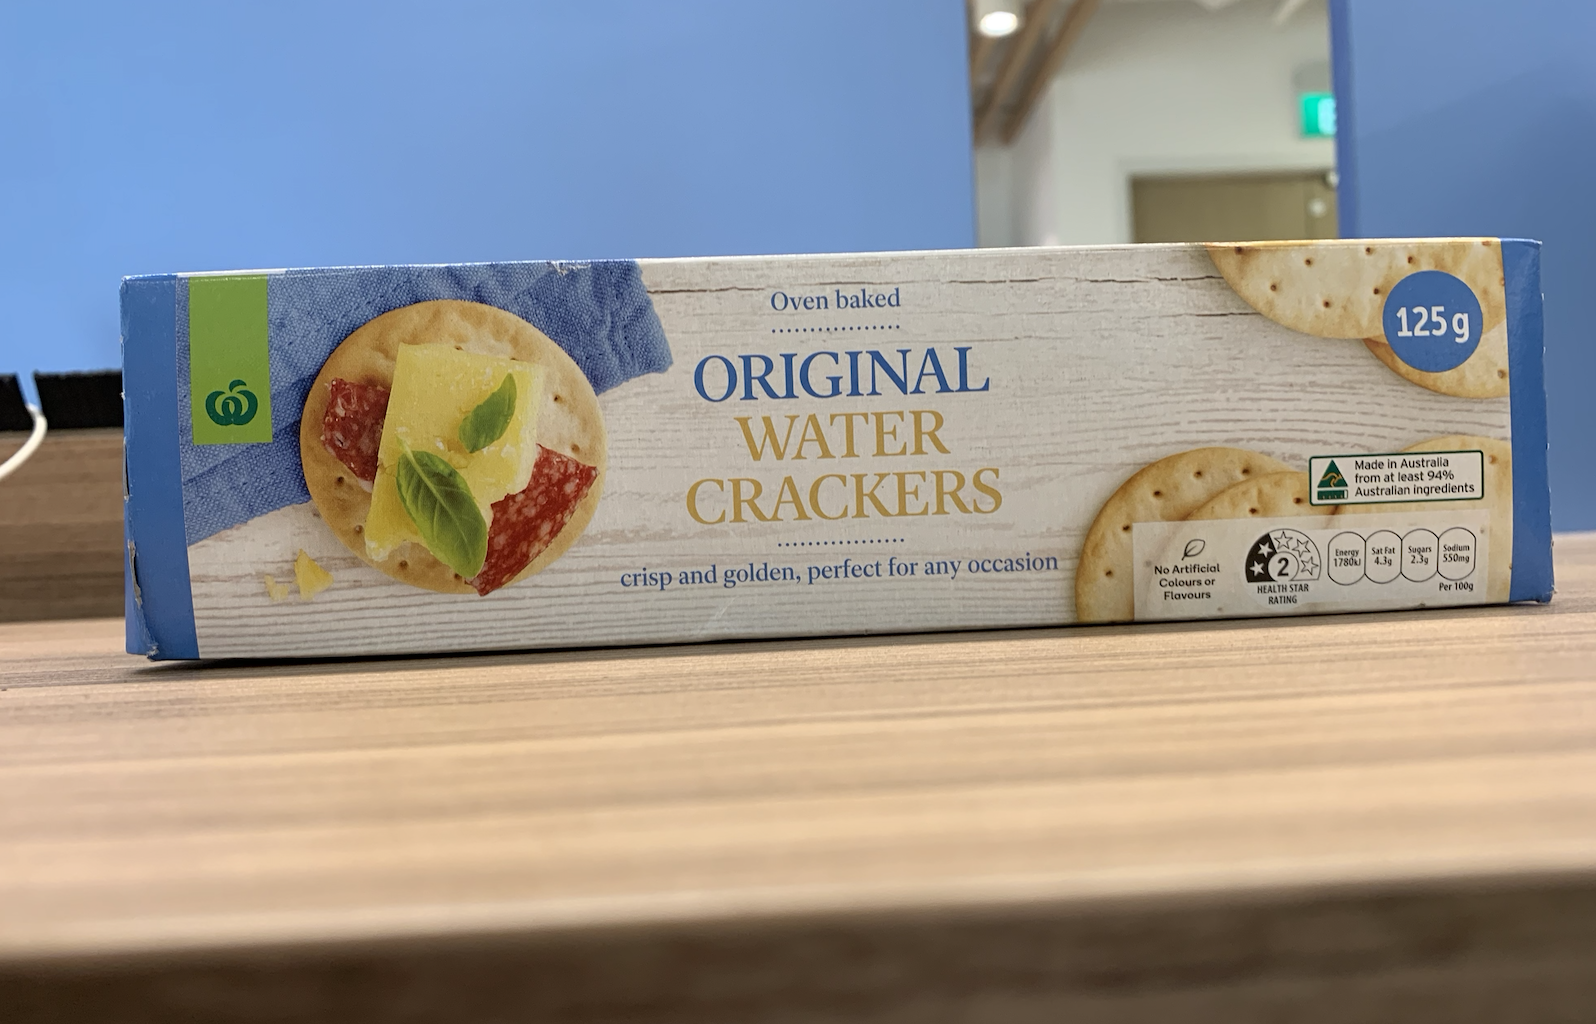crackers_150g: (168, 278, 1524, 616)
